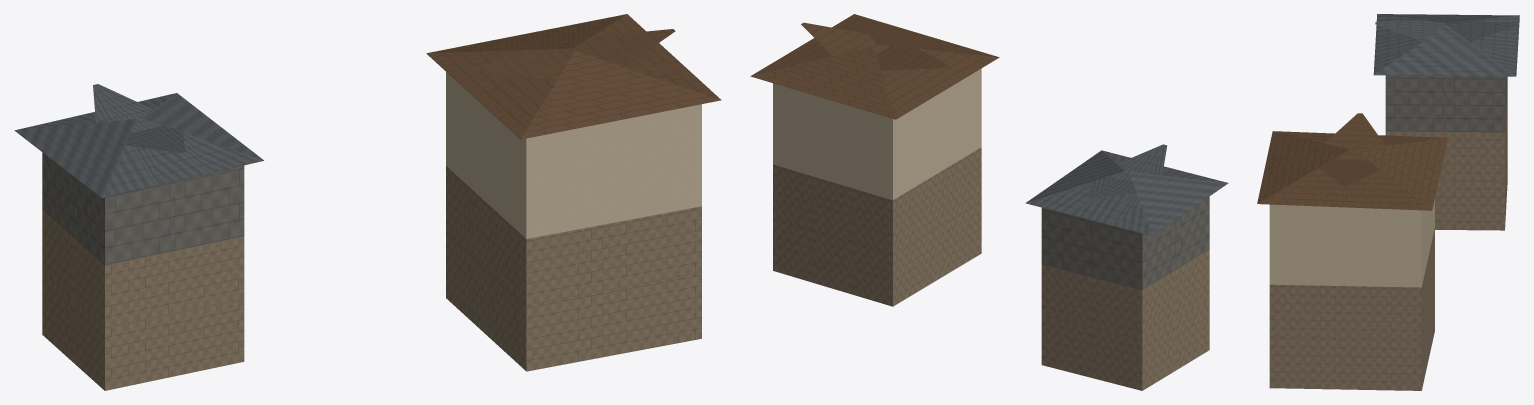
Rendered from bld_c1_10_486.gltf.
3 views of the same model, side by side, from view 1: azimuth 30°, elevation 25°; view 2: azimuth 150°, elevation 25°; view 3: azimuth 270°, elevation 25° (orthographic). The views are drawn at different scales.
Parts seen in each view (by area): view 1: bld_c1_10_486; view 2: bld_c1_10_486; view 3: bld_c1_10_486.
Boxes of the visible parts, x1,y1,x2,y2 form: bld_c1_10_486: (14,14,721,390); bld_c1_10_486: (750,14,1228,390); bld_c1_10_486: (1257,14,1519,390).
Bounding box in the file's own units: 21.62 × 9.9 × 11.24.
5 materials, 5 textured.
